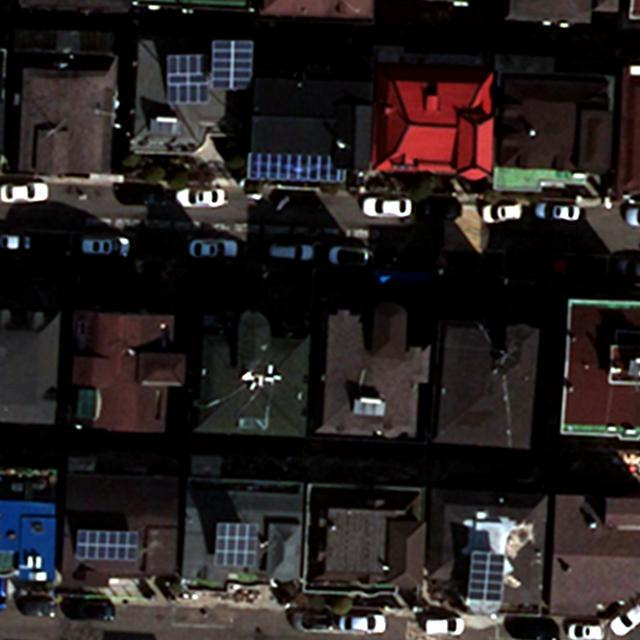panel: (163, 53, 209, 106), (73, 527, 141, 562), (209, 39, 254, 91), (212, 521, 258, 569), (468, 549, 503, 607)
